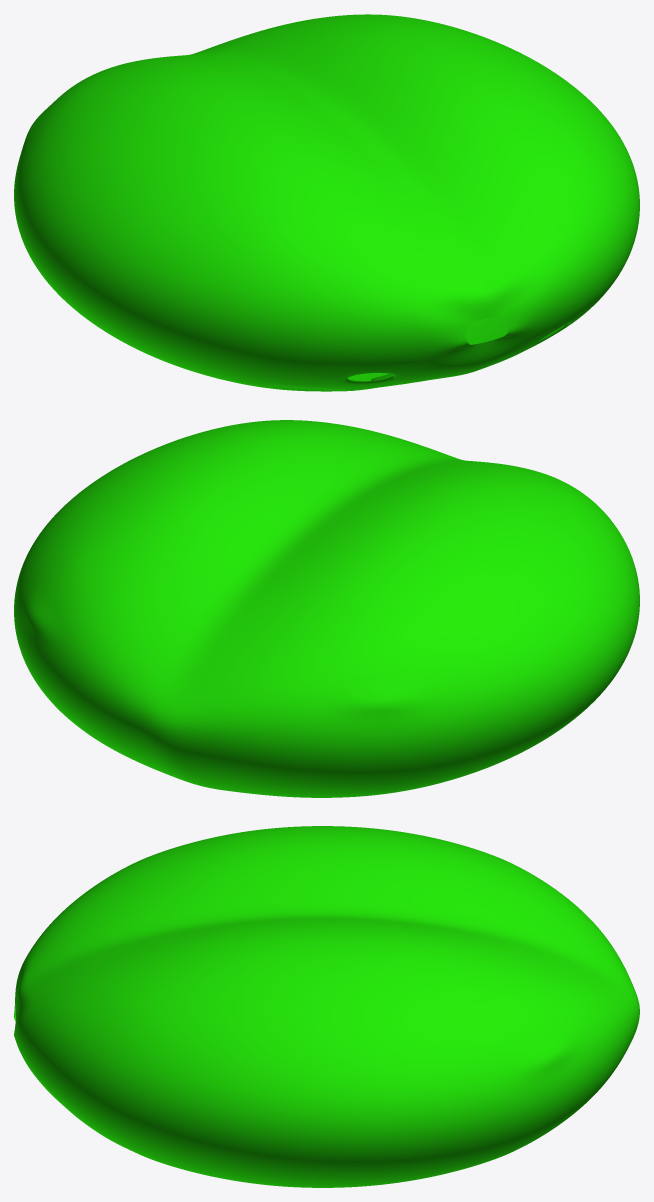
File: zone2-rhino-green.gltf
3 views of the same model, one above another, from view 1: azimuth 30°, elevation 25°; view 2: azimuth 150°, elevation 25°; view 3: azimuth 270°, elevation 25° (orthographic). The views are drawn at different scales.
Visible parts, largest first — view 1: TeteBas; view 2: TeteBas; view 3: TeteBas.
Boxes of the visible parts, <box> form: TeteBas: <box>14,14,639,391</box>; TeteBas: <box>14,420,639,797</box>; TeteBas: <box>14,826,639,1187</box>.
Size of the model in its own units: 3.36 by 1.53 by 3.52.
